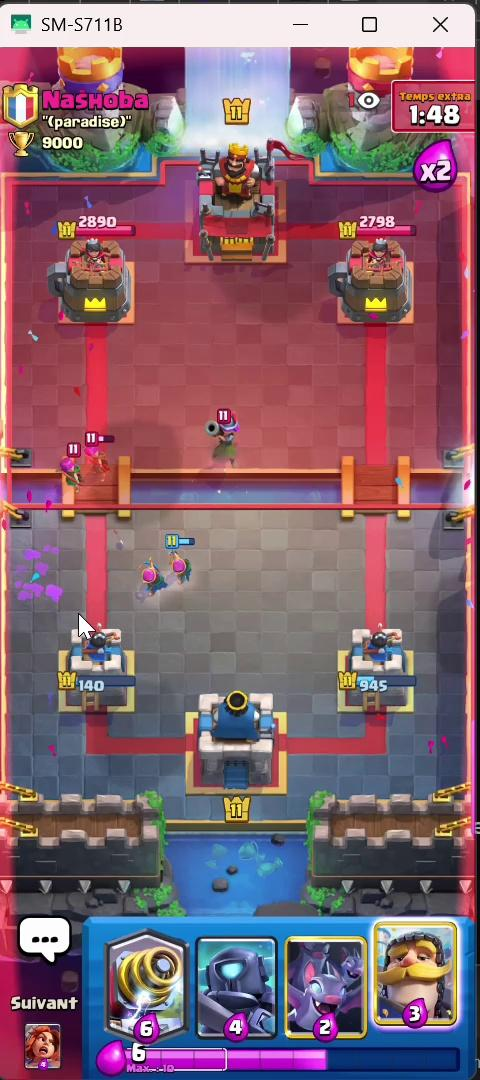archere: (144, 525, 212, 593), (71, 418, 119, 485), (121, 541, 174, 598), (47, 437, 91, 492)
mousquetaire: (186, 401, 250, 462)
